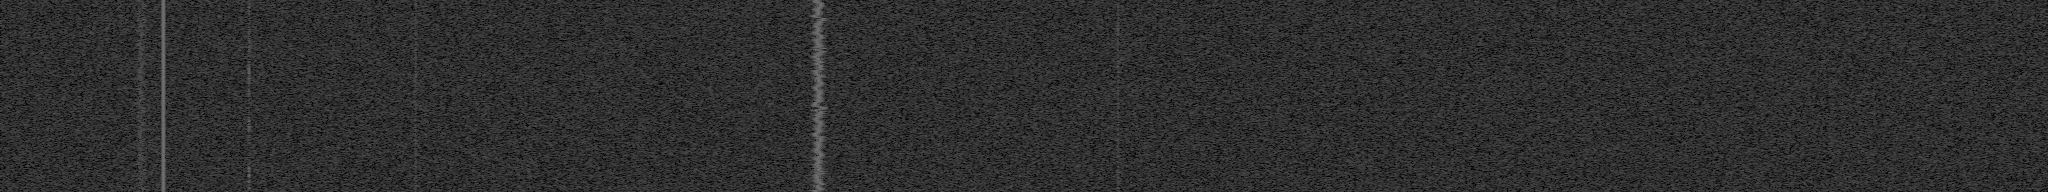wv_am: (159, 0, 166, 192), (413, 0, 418, 192), (1115, 0, 1121, 192)
wv_lsb: (246, 29, 252, 110), (246, 111, 252, 152), (246, 163, 252, 192), (246, 1, 252, 27), (247, 152, 251, 162)
wv_wbfm: (808, 0, 829, 192), (131, 0, 150, 192)
